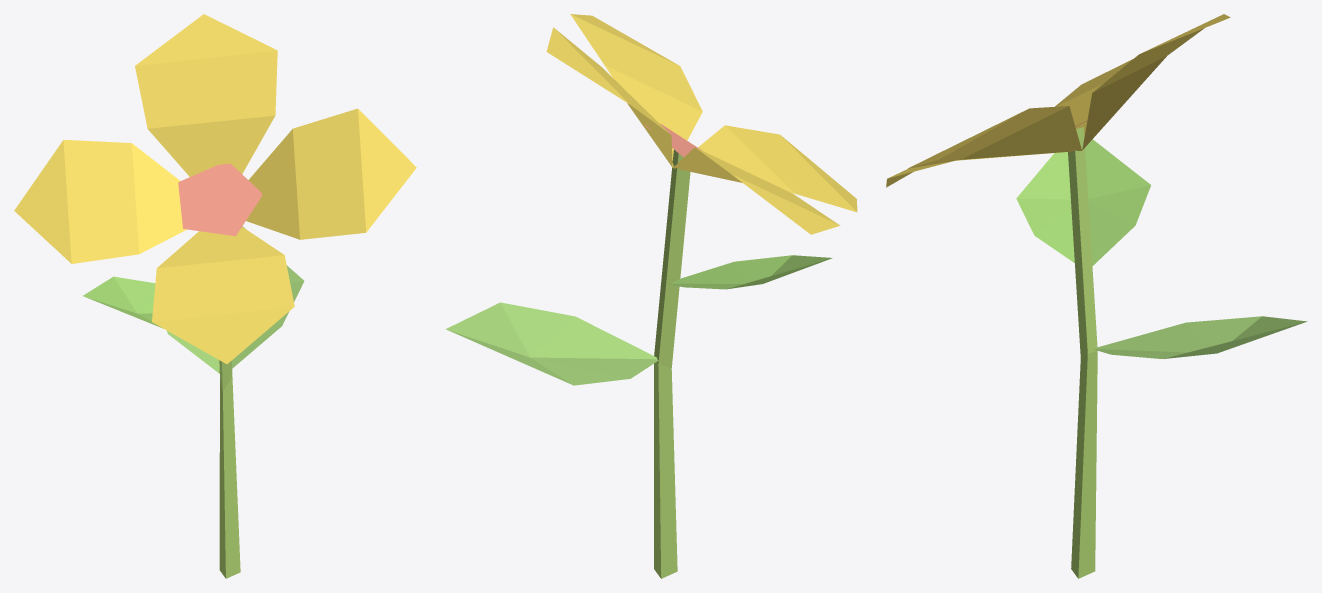
File: Flower_d_OneS_07.fbx
The picture shows the model from 3 angles, left to right: view 1: azimuth 30°, elevation 25°; view 2: azimuth 150°, elevation 25°; view 3: azimuth 270°, elevation 25°; orthographic projection. The views are drawn at different scales.
Parts seen in each view (by area): view 1: Flower_d_OneS_07; view 2: Flower_d_OneS_07; view 3: Flower_d_OneS_07.
Boxes of the visible parts, x1,y1,x2,y2 form: Flower_d_OneS_07: [14, 14, 416, 578]; Flower_d_OneS_07: [446, 14, 857, 578]; Flower_d_OneS_07: [886, 14, 1307, 578].
Bounding box in the file's own units: 0.2182 × 0.3507 × 0.2319.
